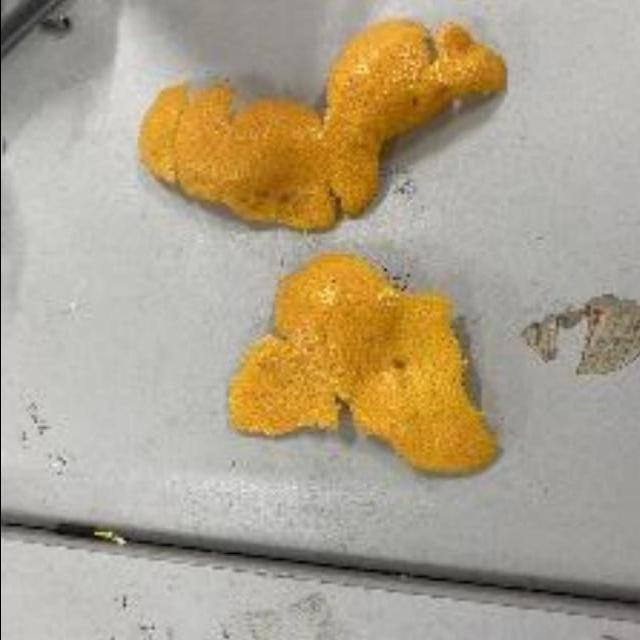orange peel: (139, 20, 506, 234), (218, 259, 506, 478)
